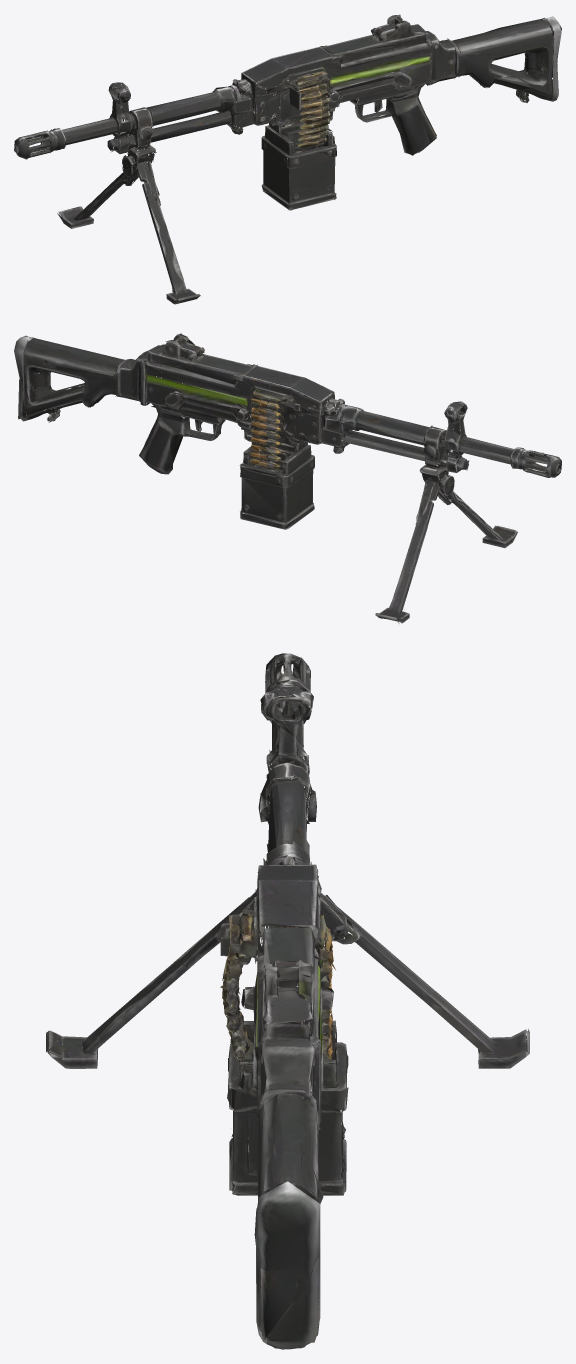
The model's file is gun_lmg_lo.glb.
The picture shows the model from 3 angles, top to bottom: view 1: azimuth 30°, elevation 25°; view 2: azimuth 150°, elevation 25°; view 3: azimuth 270°, elevation 25°; orthographic projection. The views are drawn at different scales.
Visible parts, largest first — view 1: Mesh_0; view 2: Mesh_0; view 3: Mesh_0.
Part boxes in pixels (x1=…): Mesh_0: x1=14, y1=14, x2=561, y2=304; Mesh_0: x1=14, y1=333, x2=561, y2=623; Mesh_0: x1=46, y1=653, x2=529, y2=1349.
Bounding box in the file's own units: 1.9 × 0.6025 × 0.7369.
Materials: 1 (1 with a texture image).
